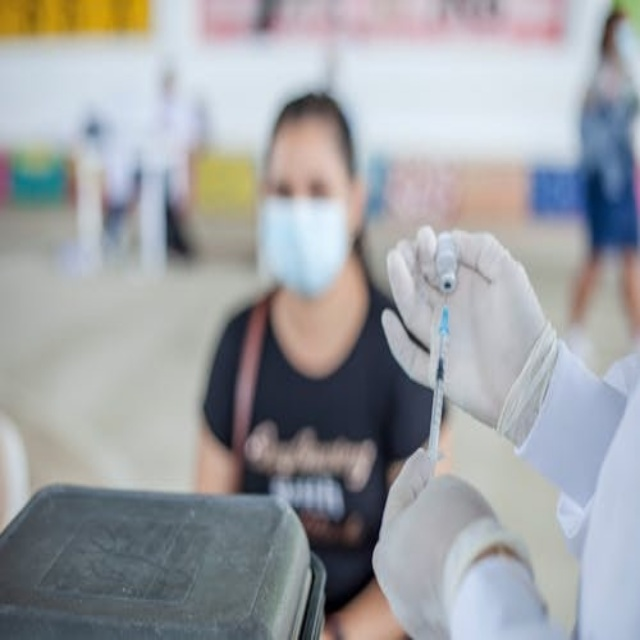Guantes: (380, 223, 555, 441), (369, 436, 481, 638)
Mascara: (252, 188, 357, 294)
